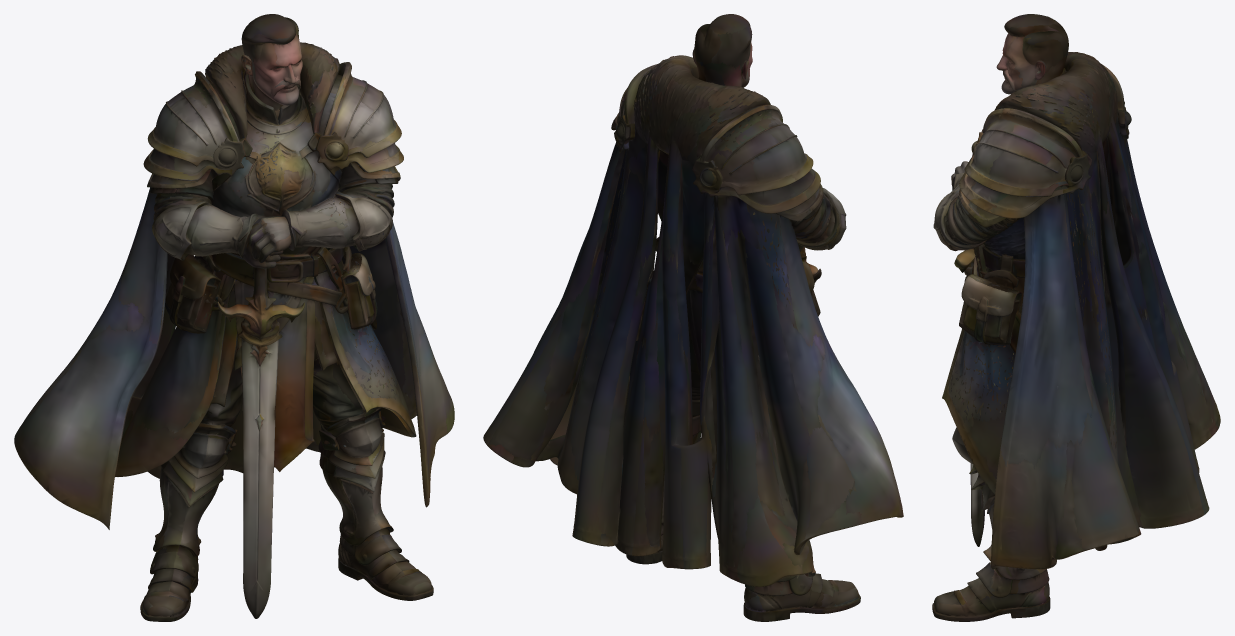
File: guard_captain.glb
3 renders of one model, left to right at view 1: azimuth 30°, elevation 25°; view 2: azimuth 150°, elevation 25°; view 3: azimuth 270°, elevation 25°, orthographic. The views are drawn at different scales.
Parts seen in each view (by area): view 1: material; view 2: material; view 3: material.
Boxes of the visible parts, x1,y1,x2,y2 form: material: [14, 14, 454, 621]; material: [483, 14, 903, 621]; material: [932, 14, 1220, 621].
Bounding box in the file's own units: 0.7829 × 1.03 × 0.4878.
1 material, 1 textured.
